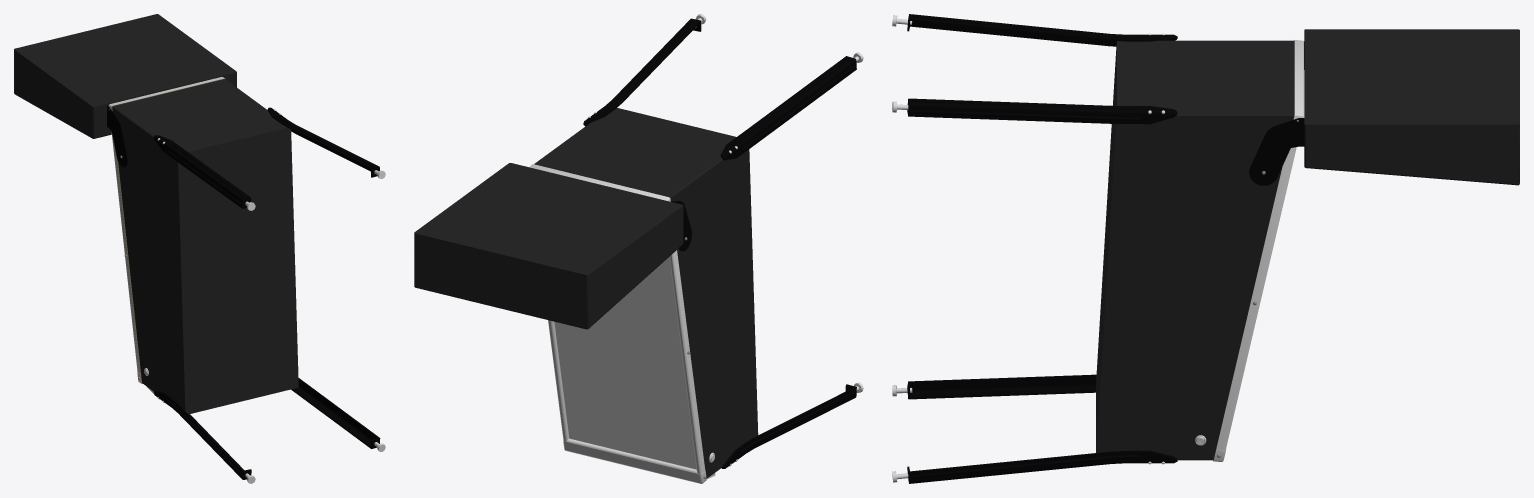
File: pinball machine.fbx
The picture shows the model from 3 angles, left to right: view 1: azimuth 30°, elevation 25°; view 2: azimuth 150°, elevation 25°; view 3: azimuth 270°, elevation 25°; orthographic projection. The views are drawn at different scales.
Parts seen in each view (by area): view 1: pinball machine; view 2: pinball machine; view 3: pinball machine.
Part boxes in pixels (x1,y1,x2,y2): pinball machine: [14, 14, 385, 483]; pinball machine: [414, 14, 863, 483]; pinball machine: [892, 14, 1519, 483].
Bounding box in the file's own units: 72 × 135 × 200.
